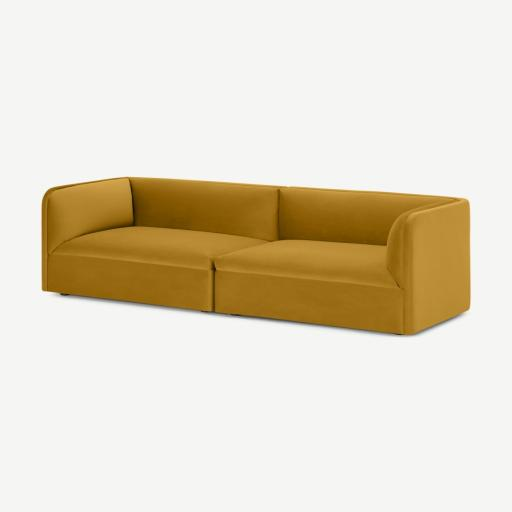back_cushion: (129, 178, 454, 245)
base: (49, 255, 405, 334)
left_arm: (388, 199, 470, 333)
right_arm: (42, 178, 133, 290)
seat_cushion: (53, 227, 390, 286)
two-seater: (0, 0, 511, 512)
